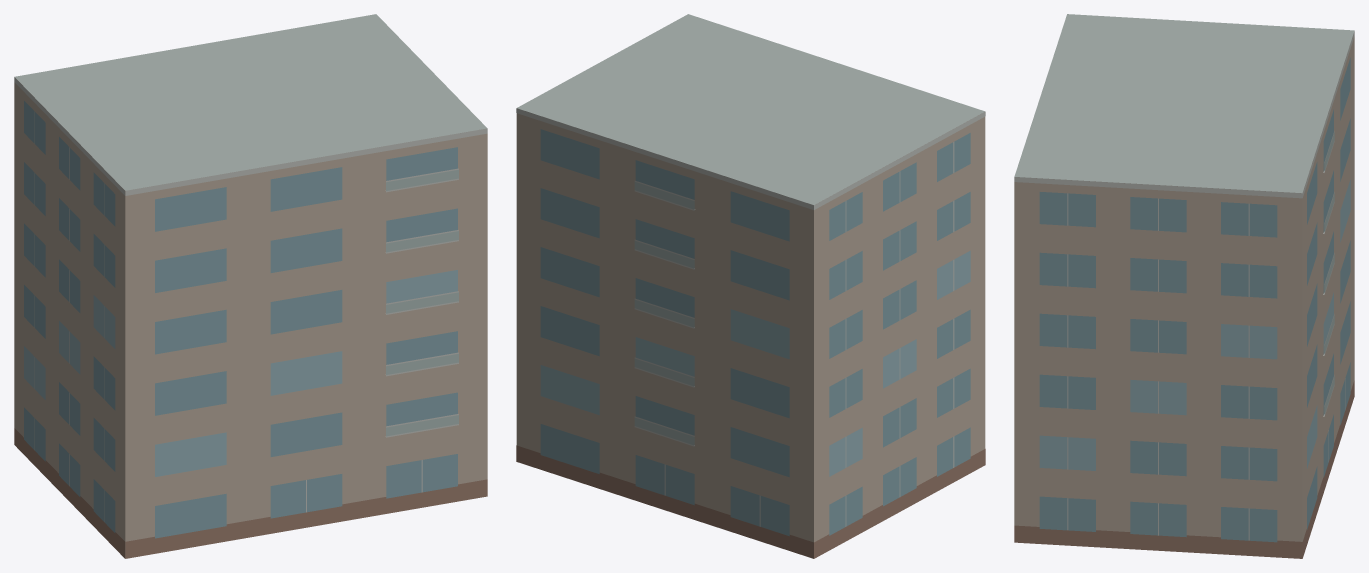
The model's file is survey-upis-32951051.glb.
3 renders of one model, left to right at view 1: azimuth 30°, elevation 25°; view 2: azimuth 150°, elevation 25°; view 3: azimuth 270°, elevation 25°, orthographic. The views are drawn at different scales.
Parts seen in each view (by area): view 1: survey-upis-32951051.tmp; view 2: survey-upis-32951051.tmp; view 3: survey-upis-32951051.tmp.
Boxes of the visible parts, x1,y1,x2,y2 form: survey-upis-32951051.tmp: (14,14,487,558); survey-upis-32951051.tmp: (516,14,985,558); survey-upis-32951051.tmp: (1014,14,1354,558).
Size of the model in its own units: 18.19 by 17.3 by 14.6.
